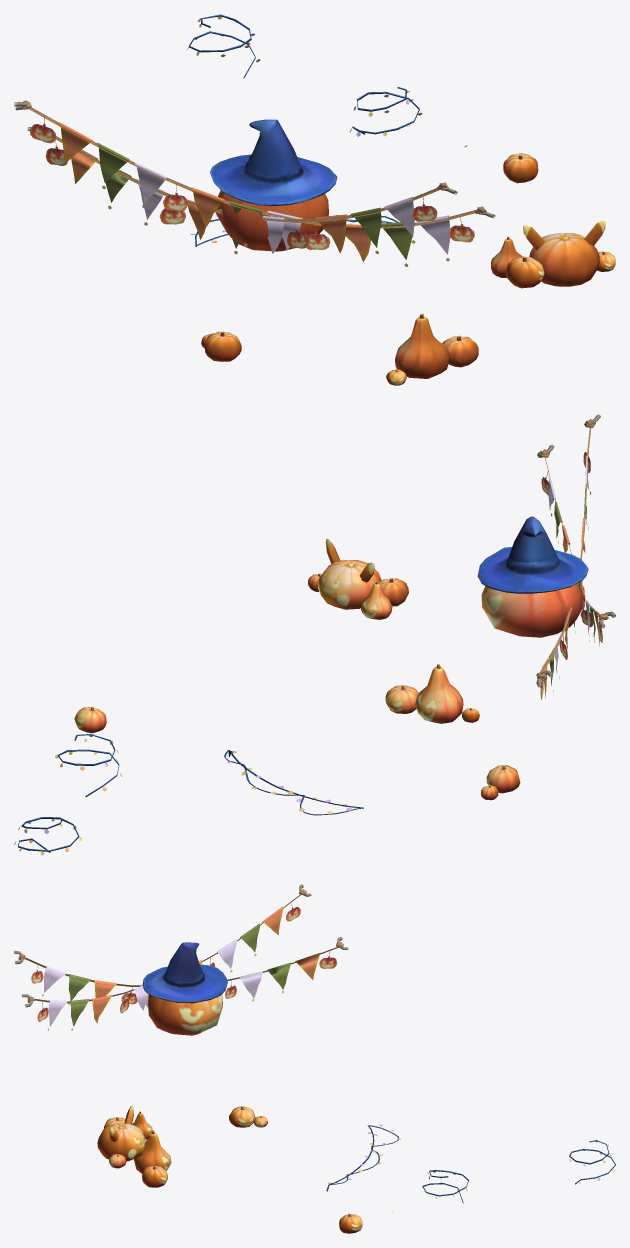
Rendered from pref_sm_4v4beachtech_WSJ_bk_decorate_R02_lv0.fbx.
3 views of the same model, one above another, from view 1: azimuth 30°, elevation 25°; view 2: azimuth 150°, elevation 25°; view 3: azimuth 270°, elevation 25° (orthographic). The views are drawn at different scales.
Visible parts, largest first — view 1: sm_4v4beachtech_WSJ_bk_decorate_R02_b_lv0, sm_4v4beachtech_WSJ_bk_decorate_R02_a_lv0; view 2: sm_4v4beachtech_WSJ_bk_decorate_R02_b_lv0, sm_4v4beachtech_WSJ_bk_decorate_R02_a_lv0; view 3: sm_4v4beachtech_WSJ_bk_decorate_R02_b_lv0, sm_4v4beachtech_WSJ_bk_decorate_R02_a_lv0.
Part boxes in pixels (x1,y1,x2,y2): sm_4v4beachtech_WSJ_bk_decorate_R02_b_lv0: (201,119,615,385); sm_4v4beachtech_WSJ_bk_decorate_R02_a_lv0: (14,14,495,266); sm_4v4beachtech_WSJ_bk_decorate_R02_b_lv0: (74,516,588,800); sm_4v4beachtech_WSJ_bk_decorate_R02_a_lv0: (14,414,615,855); sm_4v4beachtech_WSJ_bk_decorate_R02_b_lv0: (97,942,362,1233); sm_4v4beachtech_WSJ_bk_decorate_R02_a_lv0: (14,884,615,1212).
Size of the model in its own units: 22.76 by 10.93 by 30.53.
Materials: 1 (1 with a texture image).
